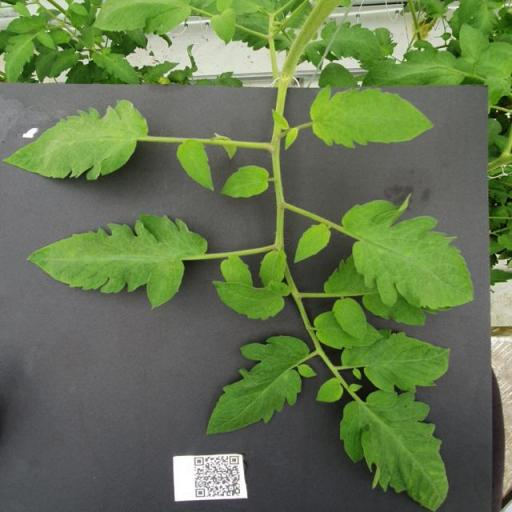Healthy: (28, 214, 208, 312), (338, 192, 480, 310), (338, 388, 448, 512), (2, 99, 152, 181), (204, 334, 309, 438), (304, 85, 436, 147), (340, 327, 452, 395), (210, 278, 290, 322), (176, 140, 215, 193), (220, 164, 270, 198), (294, 222, 332, 262)
